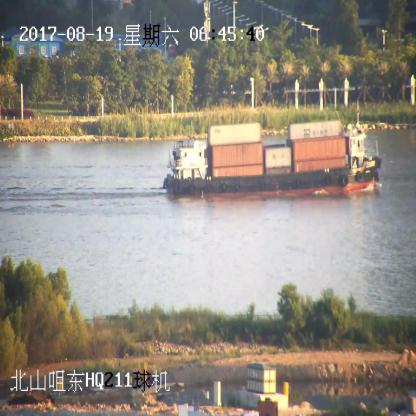Container Ship: (162, 116, 381, 199)
